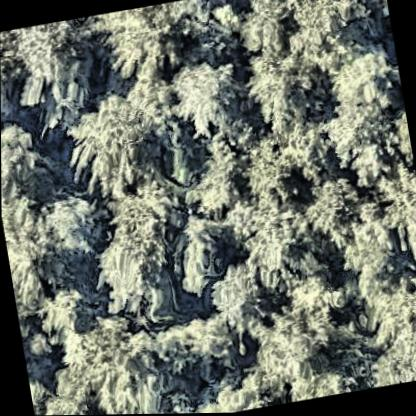tree-top: (90, 183, 192, 316), (58, 89, 155, 200), (56, 314, 158, 415), (313, 43, 408, 149), (251, 302, 357, 394), (236, 38, 329, 133), (0, 16, 92, 110), (165, 54, 244, 143), (153, 310, 247, 384), (93, 2, 178, 83), (156, 209, 227, 300), (280, 0, 384, 57), (37, 184, 108, 263), (299, 166, 366, 248), (284, 240, 349, 321), (233, 133, 301, 209), (200, 261, 271, 331), (1, 119, 52, 214), (369, 158, 416, 254), (32, 282, 94, 341), (363, 319, 416, 387), (234, 0, 295, 56)
